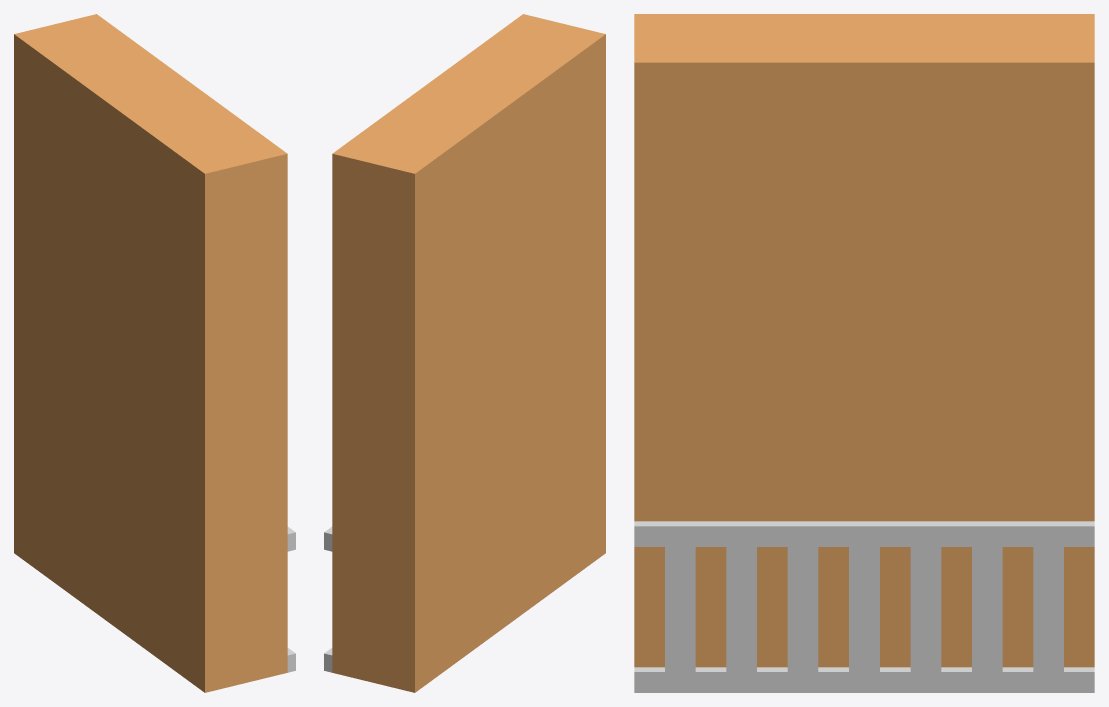
File: sushi_wall3x2_b.fbx
3 renders of one model, left to right at view 1: azimuth 30°, elevation 25°; view 2: azimuth 150°, elevation 25°; view 3: azimuth 270°, elevation 25°, orthographic. The views are drawn at different scales.
Parts seen in each view (by area): view 1: Cube; view 2: Cube; view 3: Cube.
Part boxes in pixels (<box>): Cube: <box>14,14,295,692</box>; Cube: <box>324,14,605,692</box>; Cube: <box>634,14,1094,692</box>.
Size of the model in its own units: 0.55 by 3 by 2.
